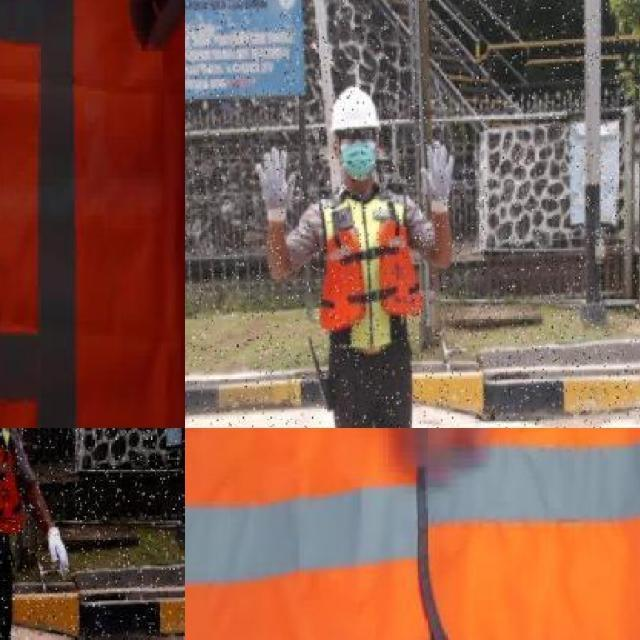apron: (253, 142, 298, 230), (420, 137, 456, 217), (44, 524, 72, 574)
